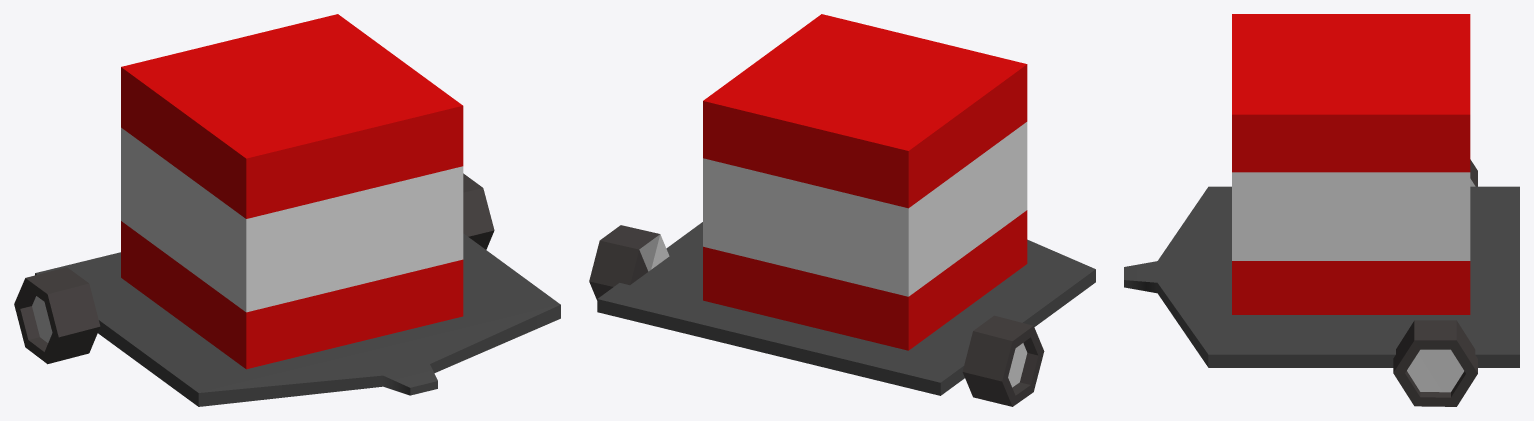
The model's file is BoomCar.fbx.
3 renders of one model, left to right at view 1: azimuth 30°, elevation 25°; view 2: azimuth 150°, elevation 25°; view 3: azimuth 270°, elevation 25°, orthographic. The views are drawn at different scales.
Visible parts, largest first — view 1: BoomBox; view 2: BoomBox; view 3: BoomBox.
Part boxes in pixels (x1=…): BoomBox: x1=14, y1=14, x2=560, y2=406; BoomBox: x1=589, y1=14, x2=1095, y2=406; BoomBox: x1=1124, y1=14, x2=1519, y2=406.
Size of the model in its own units: 20.86 by 11.47 by 17.26.
